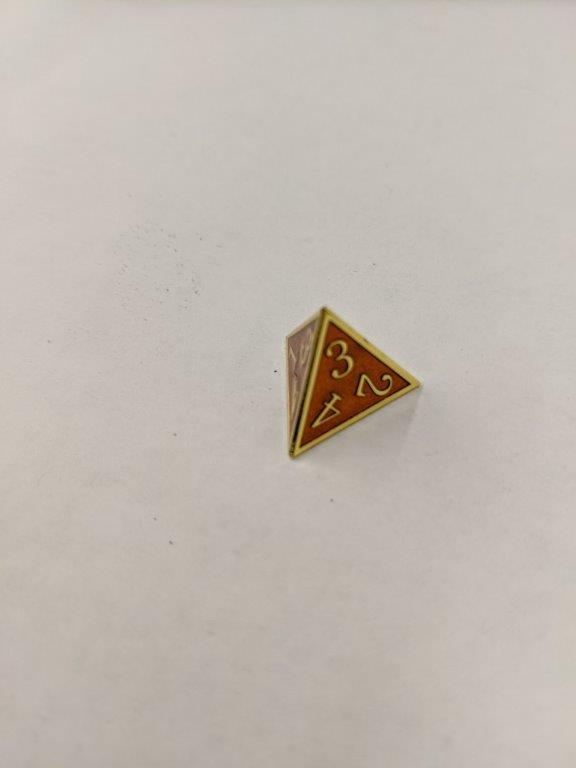d4-3: (277, 302, 420, 462)
